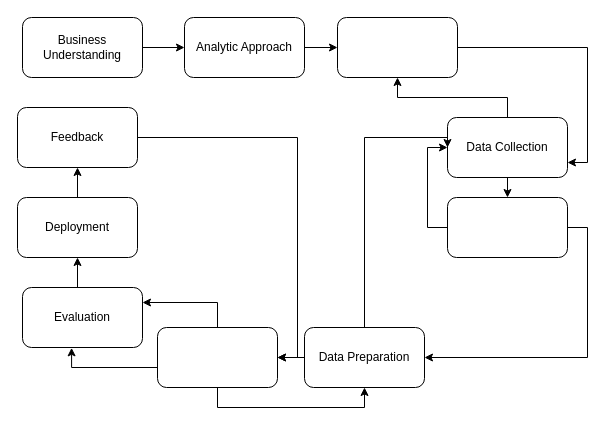
The diagram is 613 pixels wide and 433 high, and some of its shapes have lost their labels. The shapes that lost their labels are listed below. From the top down, each one's box as (x1, y1, x2, y2) in pixels, then its label:
(336, 16, 458, 78): Data Requirements
(446, 196, 568, 258): Data Understanding
(156, 326, 278, 388): Modeling
